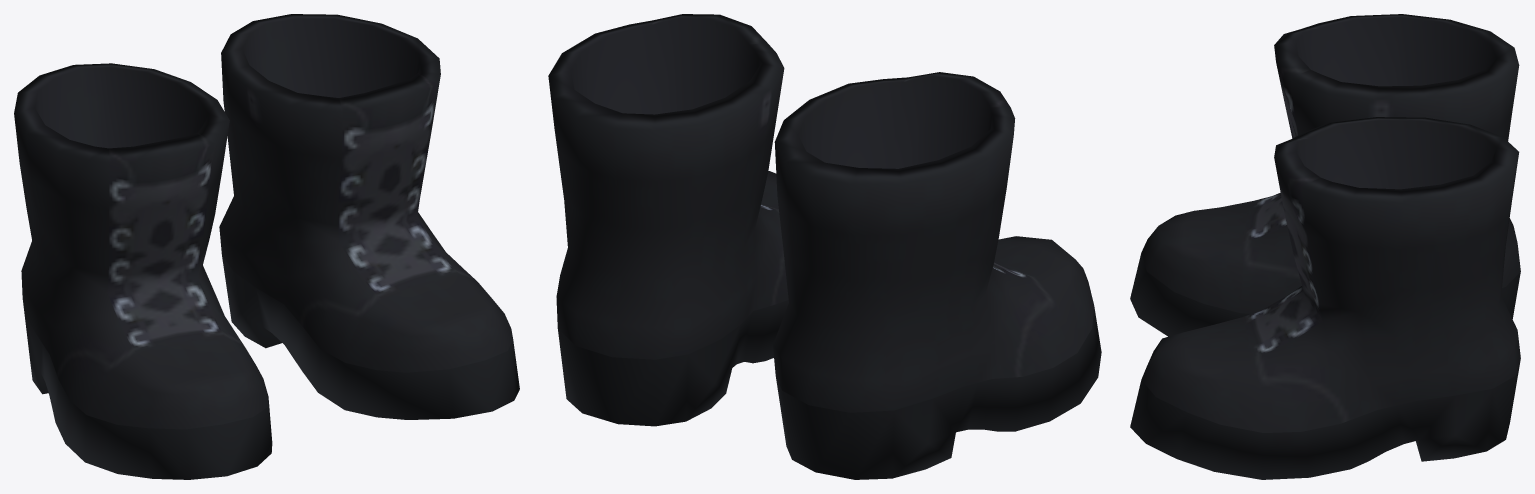
Rendered from ShoesKneeLaceup0.glb.
3 views of the same model, side by side, from view 1: azimuth 30°, elevation 25°; view 2: azimuth 150°, elevation 25°; view 3: azimuth 270°, elevation 25° (orthographic). The views are drawn at different scales.
Visible parts, largest first — view 1: Body__mShoes; view 2: Body__mShoes; view 3: Body__mShoes.
Boxes of the visible parts, x1=… form: Body__mShoes: x1=14, y1=14, x2=519, y2=479; Body__mShoes: x1=548, y1=14, x2=1101, y2=479; Body__mShoes: x1=1130, y1=14, x2=1520, y2=479.
Bounding box in the file's own units: 3.33 × 2.19 × 2.74.
1 material, 1 textured.
